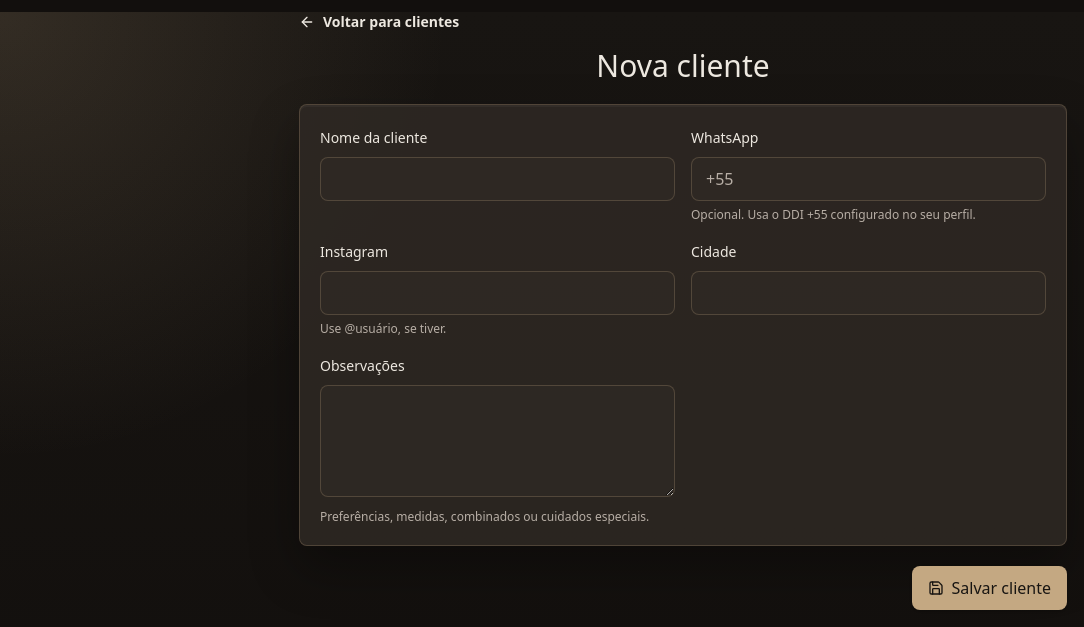
Scenario: CustomerForm › formats WhatsApp and removes typed text
The width and height of the screenshot is (1084, 627).
Type "abc11999998888texto" into the field labelled "WhatsApp".
click(868, 179); type("abc11999998888texto")  # box [691,157,1046,201]
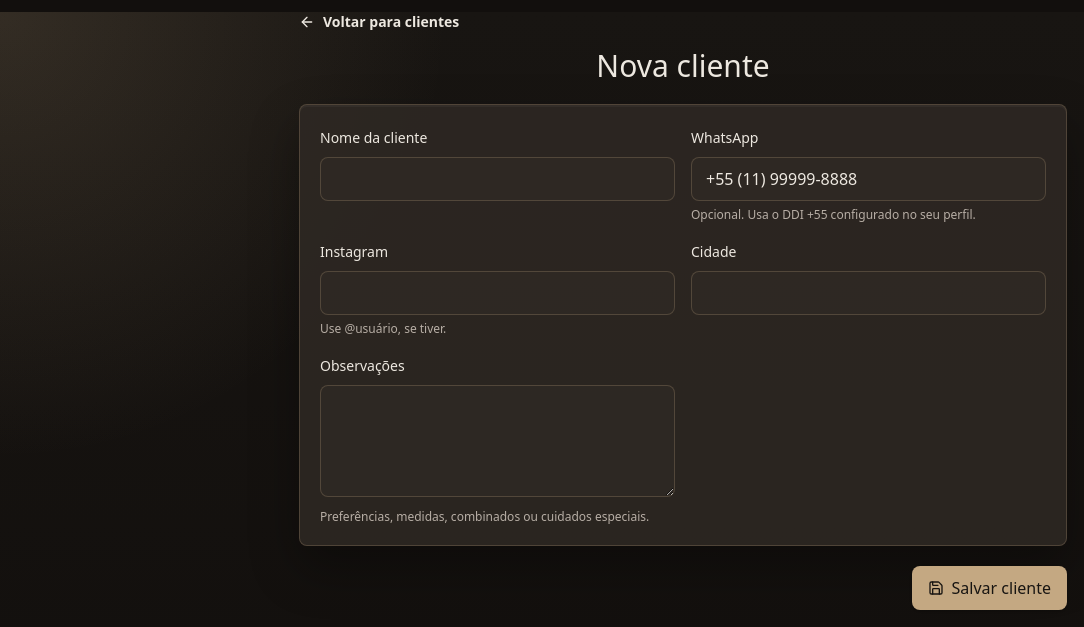
expect the field labelled "WhatsApp" holds "+55 (11) 99999-8888": met, box [691,157,1046,201]
